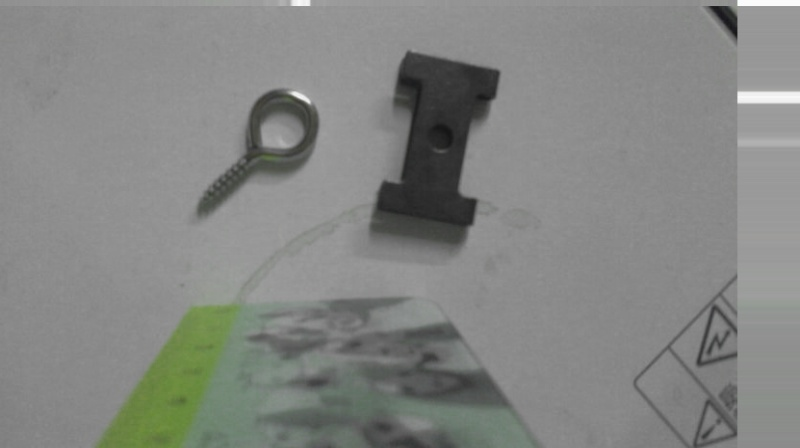O001: (189, 84, 322, 222)
O002: (369, 49, 503, 226)
